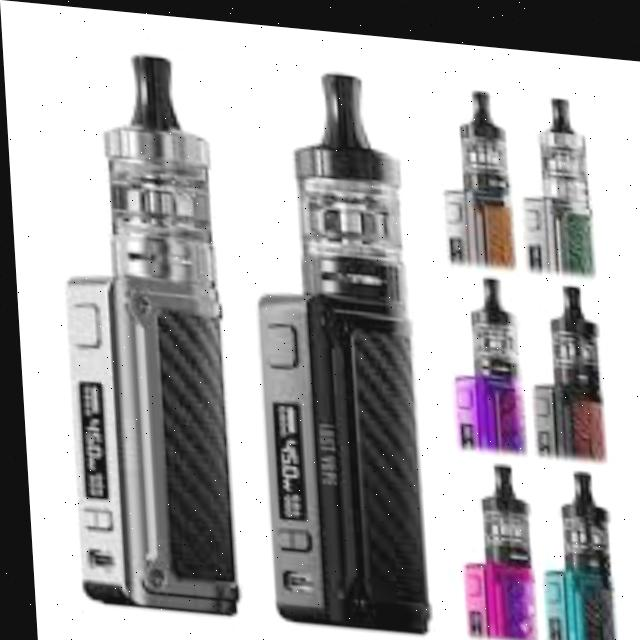vape: (47, 43, 235, 614), (240, 56, 427, 630), (451, 451, 532, 636), (444, 260, 524, 447), (531, 456, 612, 639), (524, 267, 604, 452), (515, 85, 595, 268), (437, 76, 514, 261)
